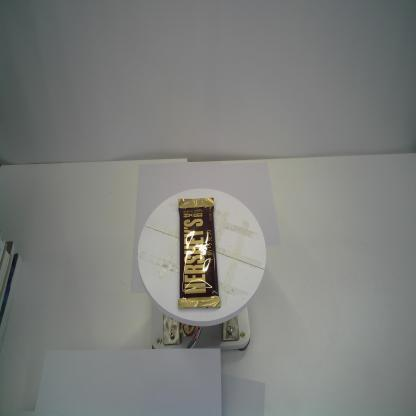Chocolate: (177, 195, 222, 312)
